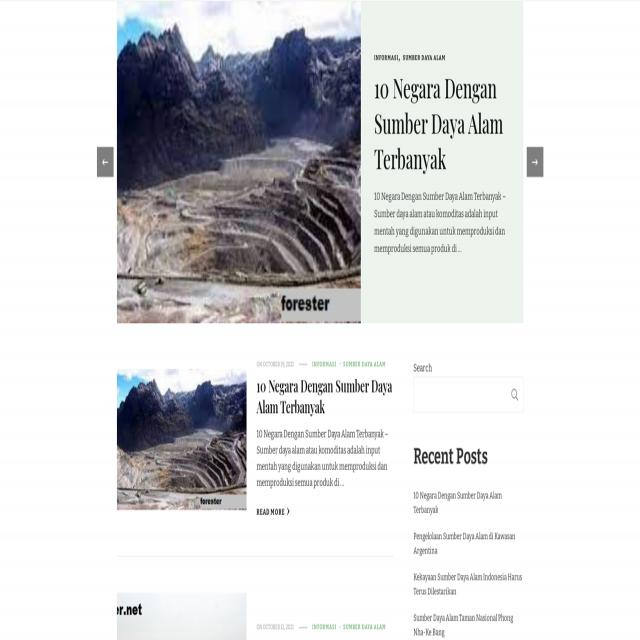button: (117, 0, 361, 322), (117, 369, 247, 510), (507, 377, 523, 412), (527, 147, 543, 177), (97, 147, 113, 177), (286, 507, 290, 516)
field: (413, 377, 507, 412)
